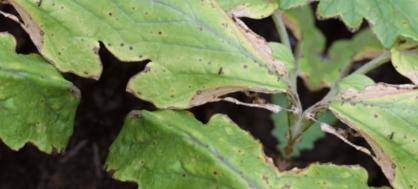Tomato Early blight leaf: (109, 0, 323, 153), (86, 80, 293, 189), (210, 0, 371, 32)
